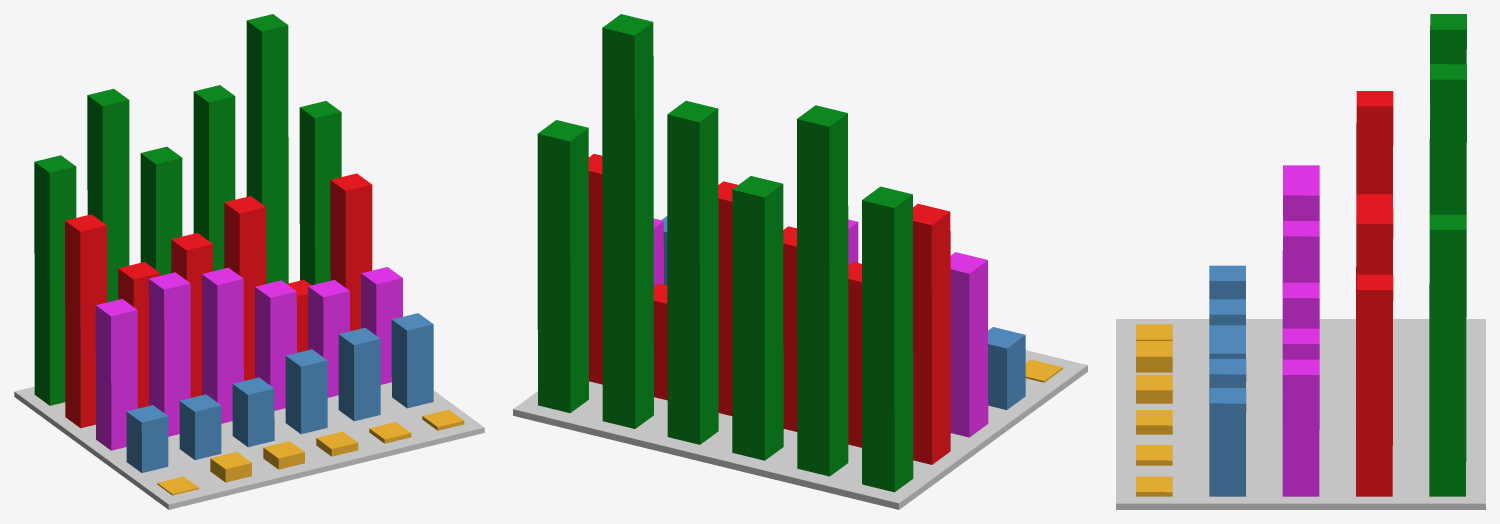
The model's file is Hist3DBlender.glb.
3 views of the same model, side by side, from view 1: azimuth 30°, elevation 25°; view 2: azimuth 150°, elevation 25°; view 3: azimuth 270°, elevation 25° (orthographic). The views are drawn at different scales.
Parts seen in each view (by area): view 1: Sol, Diesel5, Diesel1, Hydrolique1, Diesel2, Diesel6, Diesel4, Liasons2, Liasons1, Liasons3, Hydrolique6, Diesel3 (+18 smaller); view 2: Diesel5, Diesel2, Diesel4, Diesel1, Sol, Diesel6, Diesel3, Hydrolique1, Liasons1, Hydrolique4, Hydrolique6, Hydrolique3 (+4 smaller); view 3: Sol, Diesel6, Hydrolique6, Diesel5, Liasons6, Solaire6, Hydrolique1, Hydrolique4, Liasons3, Diesel2, Liasons4, Liasons2 (+14 smaller).
Boxes of the visible parts, bbox=[...] form: Sol: bbox=[14, 382, 484, 509]; Diesel5: bbox=[246, 14, 288, 283]; Diesel1: bbox=[34, 155, 76, 405]; Hydrolique1: bbox=[65, 214, 106, 428]; Diesel2: bbox=[87, 88, 129, 302]; Diesel6: bbox=[299, 101, 341, 285]; Diesel4: bbox=[193, 85, 235, 271]; Liasons2: bbox=[148, 272, 190, 436]; Liasons1: bbox=[95, 299, 137, 450]; Liasons3: bbox=[202, 267, 243, 423]; Hydrolique6: bbox=[330, 173, 372, 331]; Diesel3: bbox=[140, 146, 182, 275]; Diesel5: bbox=[602, 14, 653, 428]; Diesel2: bbox=[797, 105, 848, 476]; Diesel4: bbox=[667, 100, 718, 444]; Diesel1: bbox=[862, 186, 913, 492]; Sol: bbox=[513, 350, 1087, 509]; Diesel6: bbox=[537, 120, 588, 413]; Diesel3: bbox=[732, 176, 783, 460]; Hydrolique1: bbox=[913, 203, 950, 464]; Liasons1: bbox=[950, 252, 988, 437]; Hydrolique4: bbox=[718, 181, 737, 415]; Hydrolique6: bbox=[588, 154, 602, 384]; Hydrolique3: bbox=[783, 226, 797, 431]; Sol: bbox=[1116, 319, 1485, 509]; Diesel6: bbox=[1429, 214, 1466, 496]; Hydrolique6: bbox=[1356, 274, 1393, 496]; Diesel5: bbox=[1429, 64, 1466, 437]; Liasons6: bbox=[1282, 359, 1319, 496]; Solaire6: bbox=[1209, 388, 1246, 496]; Hydrolique1: bbox=[1356, 91, 1393, 297]; Hydrolique4: bbox=[1356, 208, 1393, 390]; Liasons3: bbox=[1282, 221, 1319, 343]; Diesel2: bbox=[1429, 14, 1466, 344]; Liasons4: bbox=[1282, 282, 1319, 374]; Liasons2: bbox=[1282, 180, 1319, 312].
Bounding box in the file's own units: 5.95 × 5.9 × 5.04.
